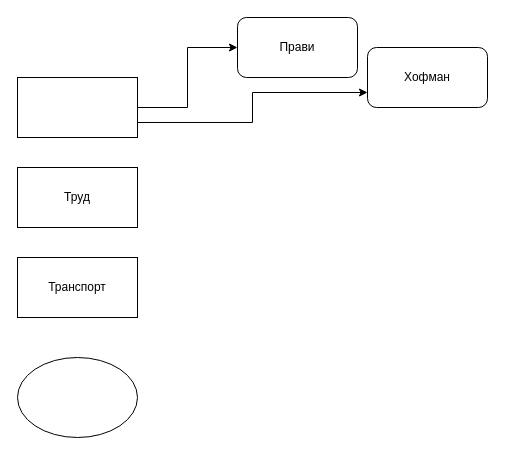
Image size: 505x455. Some labels were removed from this diagram. The shapes that lost their labels are listed below. From the top down, each one's centre as x and y in pixels, then its label:
At point 77,107: "Цена на детайли".
At point 77,397: "Печалба".
